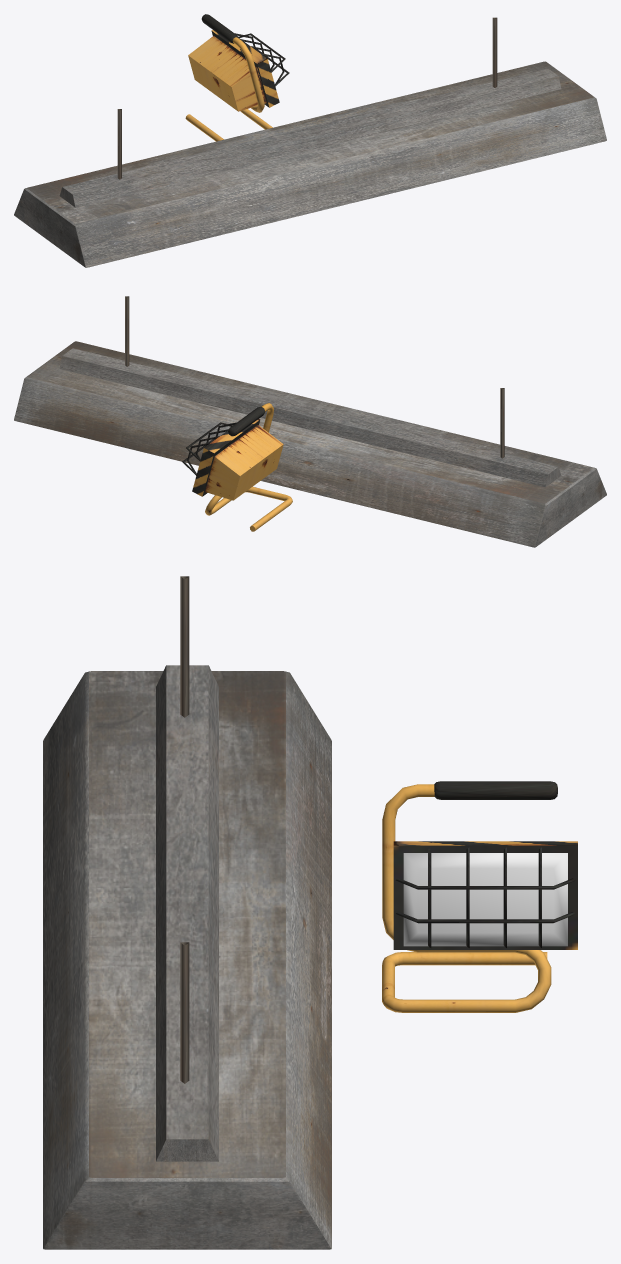
The model's file is Lamps.FBX.
3 views of the same model, one above another, from view 1: azimuth 30°, elevation 25°; view 2: azimuth 150°, elevation 25°; view 3: azimuth 270°, elevation 25° (orthographic). The views are drawn at different scales.
Parts seen in each view (by area): view 1: Ceiling_Lights, Small_Lamp; view 2: Ceiling_Lights, Small_Lamp; view 3: Ceiling_Lights, Small_Lamp.
Boxes of the visible parts, x1,y1,x2,y2 form: Ceiling_Lights: (14, 17, 606, 267); Small_Lamp: (185, 14, 289, 141); Ceiling_Lights: (14, 296, 606, 547); Small_Lamp: (182, 403, 292, 531); Ceiling_Lights: (43, 576, 331, 1249); Small_Lamp: (382, 781, 577, 1012).
Bounding box in the file's own units: 82.55 × 17.5 × 36.65.
